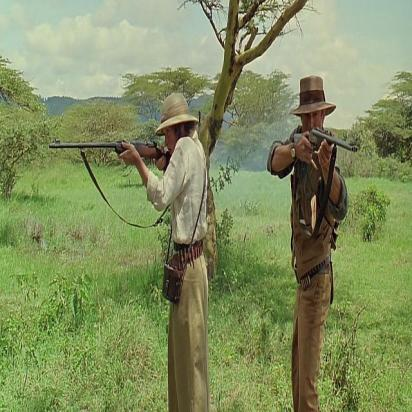Gun: (46, 134, 165, 168), (291, 124, 358, 158)
